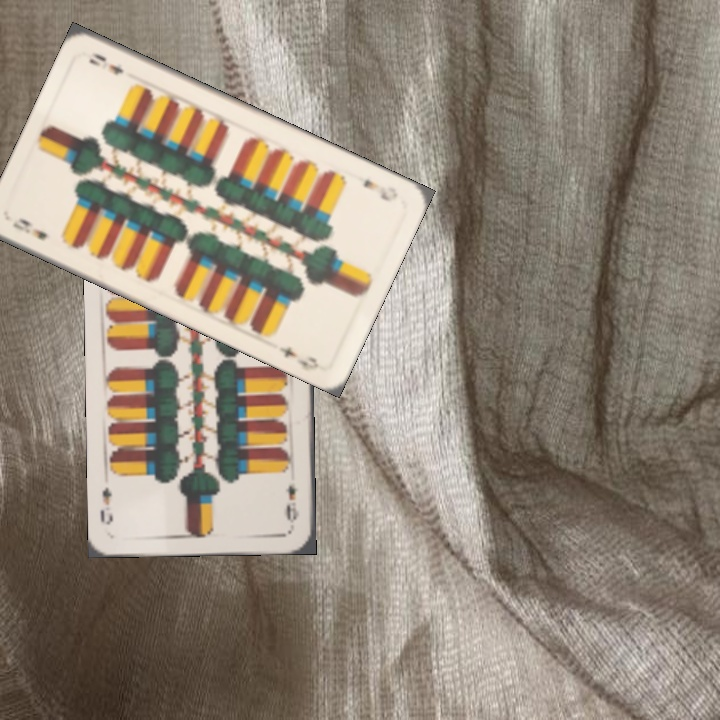E9: (359, 174, 401, 204), (9, 214, 50, 243), (282, 481, 301, 525)
